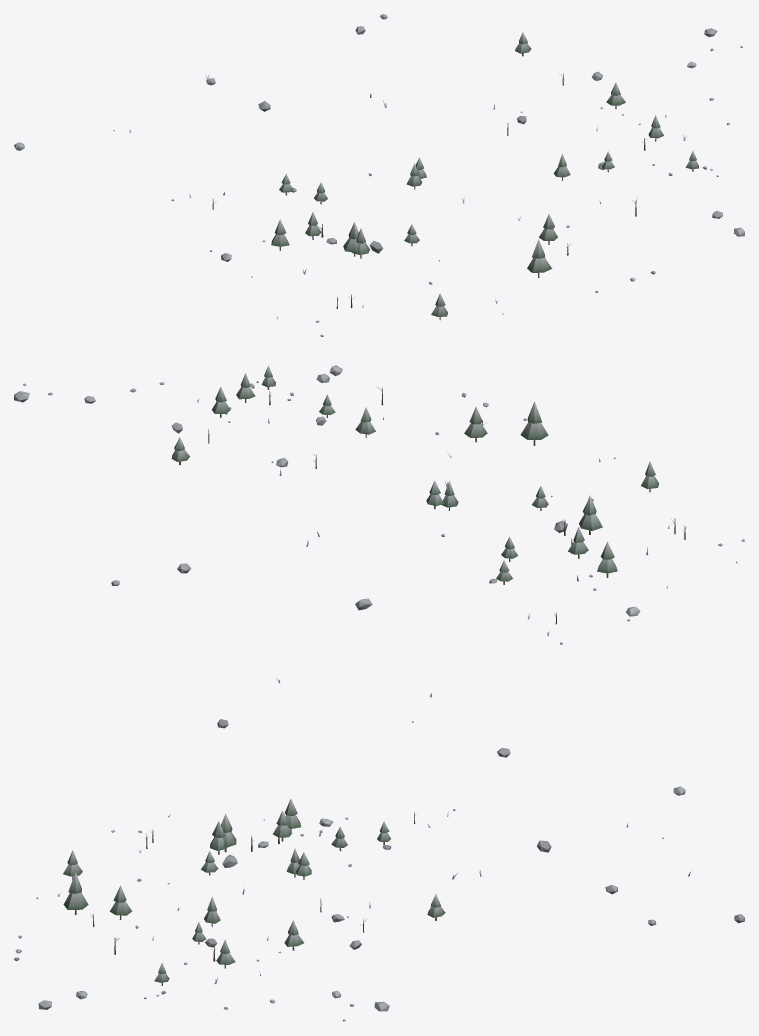
Rendered from frost_land_scatter_c23_09_lod1.glb.
3 renders of one model, top to bottom at view 1: azimuth 30°, elevation 25°; view 2: azimuth 150°, elevation 25°; view 3: azimuth 270°, elevation 25°, orthographic. The views are drawn at different scales.
Parts seen in each view (by area): view 1: frost_land_scatter_c23_09_lod1; view 2: frost_land_scatter_c23_09_lod1; view 3: frost_land_scatter_c23_09_lod1.
Boxes of the visible parts, x1,y1,x2,y2 form: frost_land_scatter_c23_09_lod1: [14, 14, 744, 336]; frost_land_scatter_c23_09_lod1: [14, 365, 744, 757]; frost_land_scatter_c23_09_lod1: [14, 786, 744, 1021].
Size of the model in its own units: 250 by 47.02 by 248.
